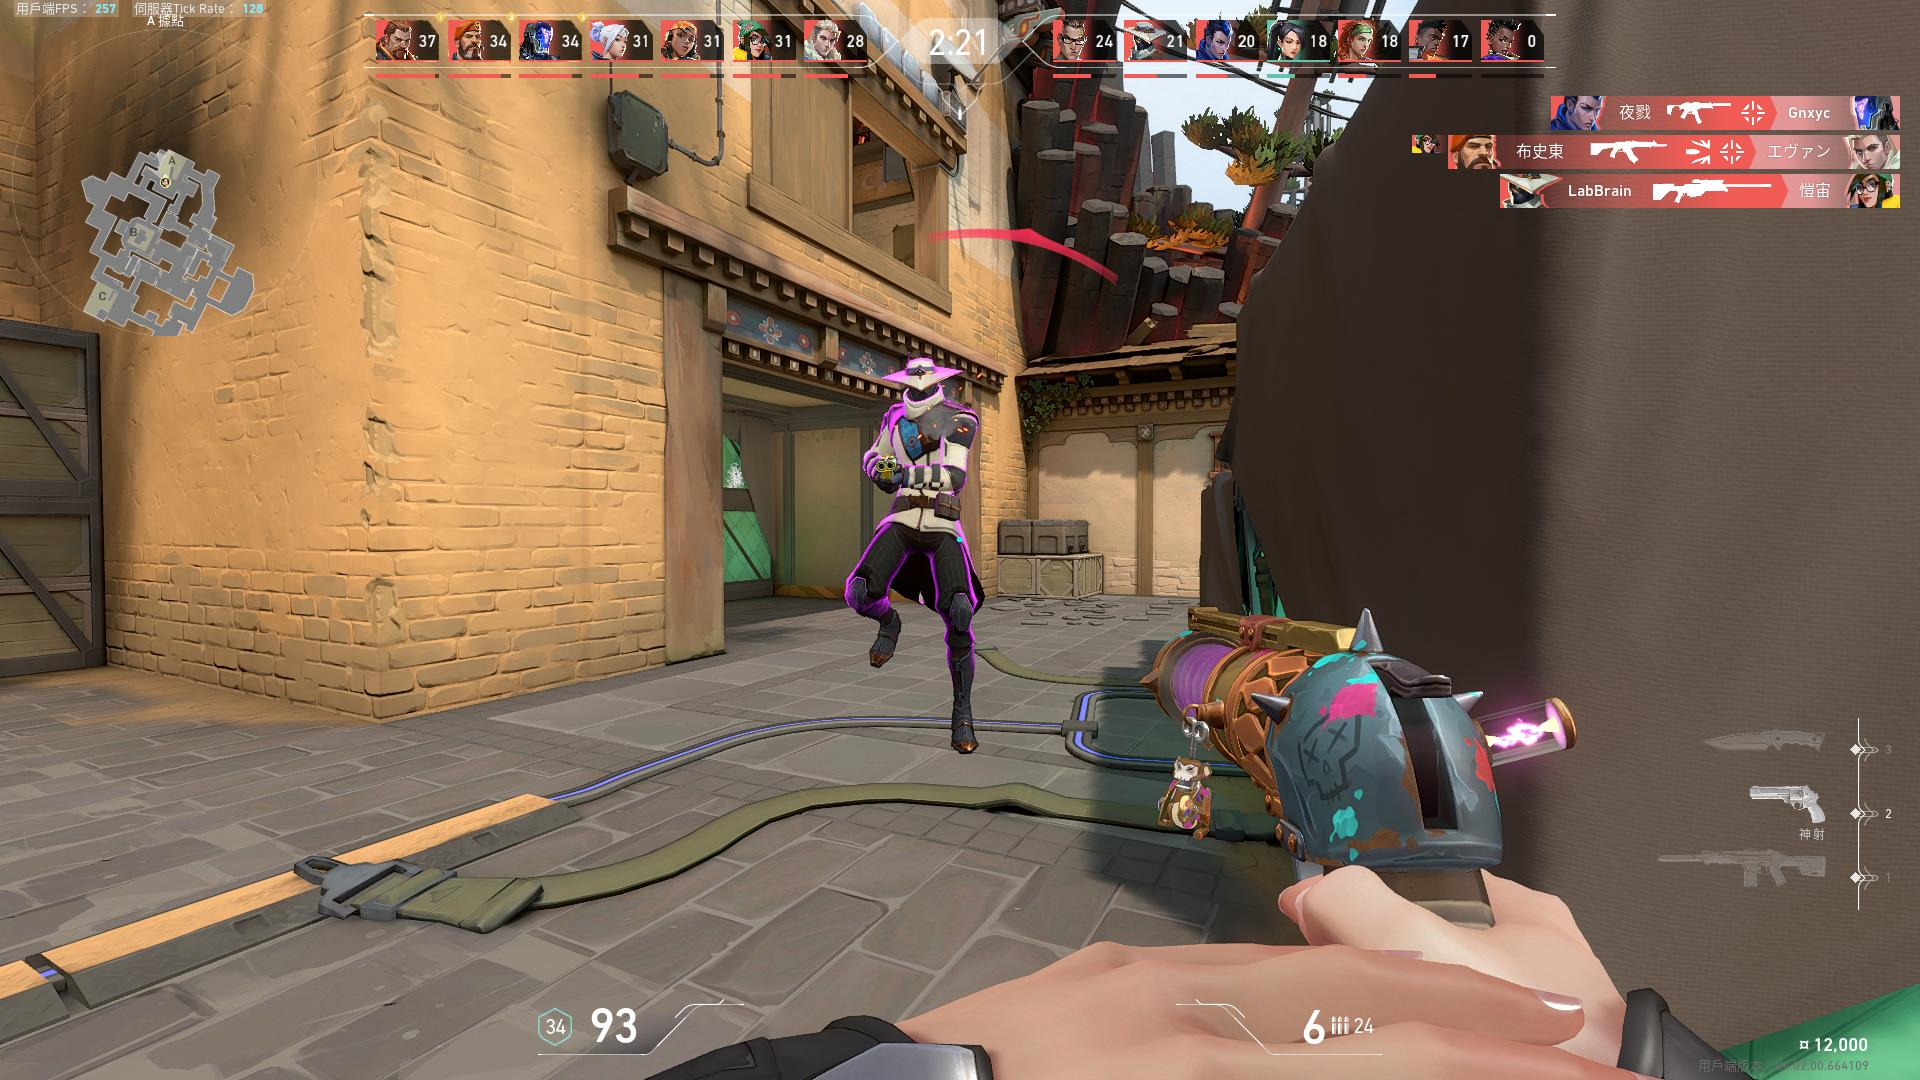enemyBody: (898, 417, 947, 514)
enemyHead: (909, 382, 939, 414)
